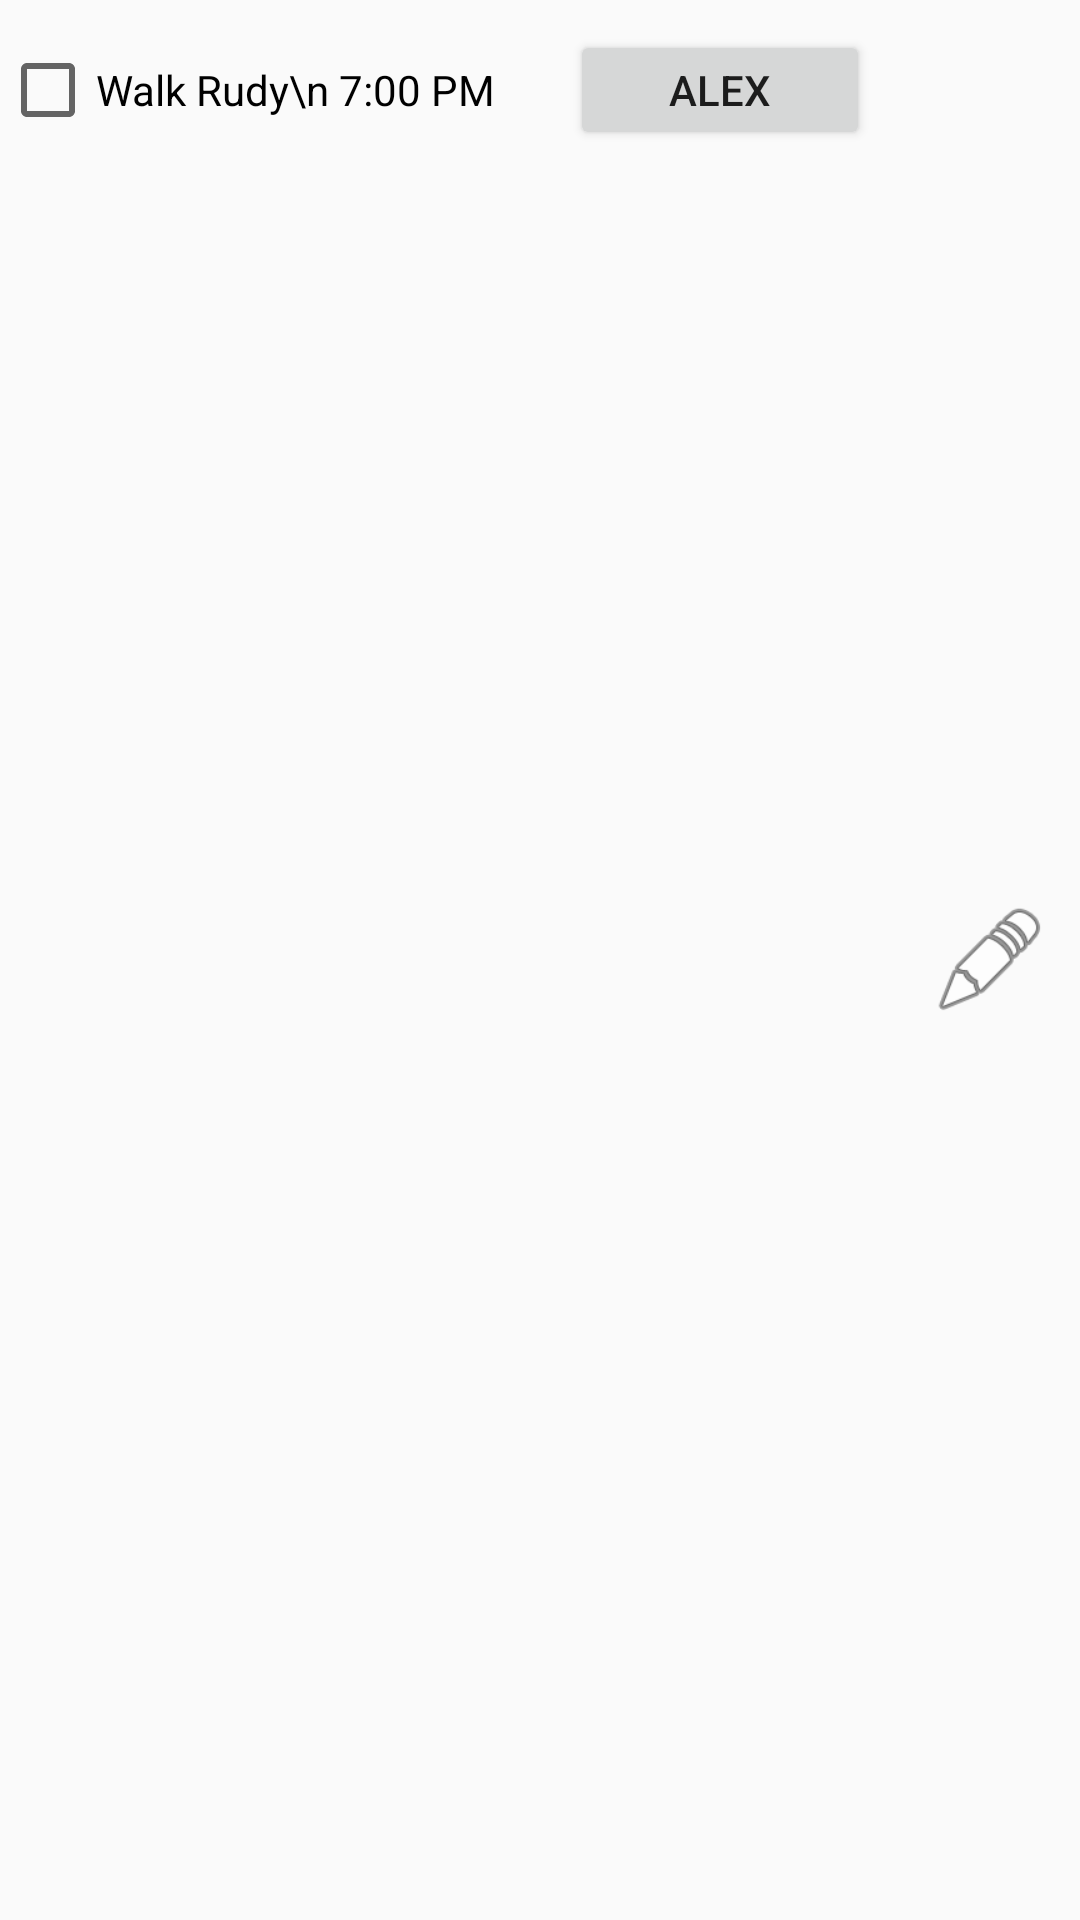

Screen size 1080*1920. Icon name, then its box in pixels as (x1, y1, x2, y2):
edit: (939, 908, 1040, 1010)
